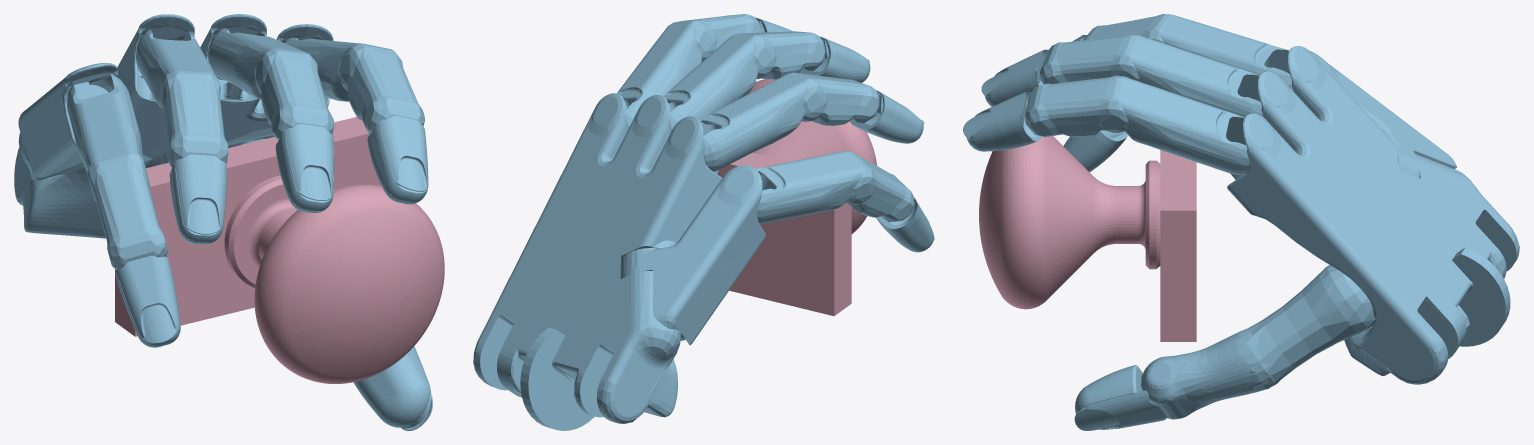
The picture shows the model from 3 angles, left to right: view 1: azimuth 30°, elevation 25°; view 2: azimuth 150°, elevation 25°; view 3: azimuth 270°, elevation 25°; orthographic projection. The views are drawn at different scales.
Parts seen in each view (by area): view 1: world, door_knob.stl; view 2: world, door_knob.stl; view 3: world, door_knob.stl.
Part boxes in pixels (x1,y1,x2,y2): world: (14,14,432,430); door_knob.stl: (115,117,444,383); world: (473,14,934,430); door_knob.stl: (717,79,876,316); world: (963,14,1519,430); door_knob.stl: (979,136,1196,341).
Bounding box in the file's own units: 0.1182 × 0.1329 × 0.192.
